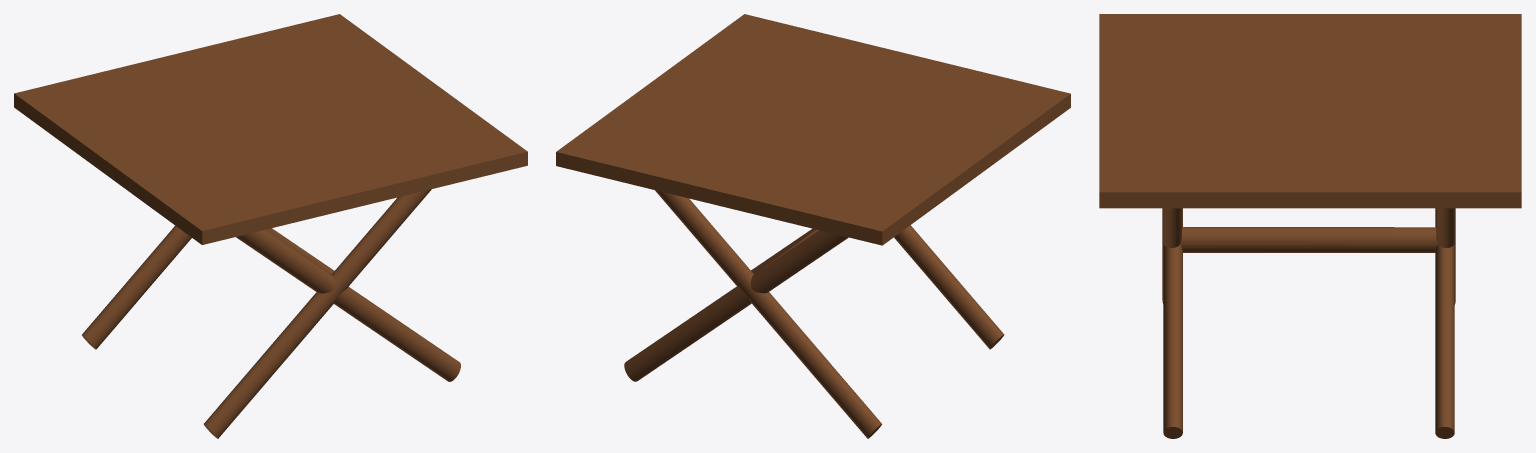
Rendered from side_table 1.fbx.
3 renders of one model, left to right at view 1: azimuth 30°, elevation 25°; view 2: azimuth 150°, elevation 25°; view 3: azimuth 270°, elevation 25°, orthographic. The views are drawn at different scales.
Visible parts, largest first — view 1: table; view 2: table; view 3: table.
Boxes of the visible parts, box(x1,y1,x2,y2) form: table: box(14, 14, 527, 438); table: box(556, 14, 1070, 438); table: box(1099, 14, 1521, 438).
Size of the model in its own units: 384 by 273 by 384.
